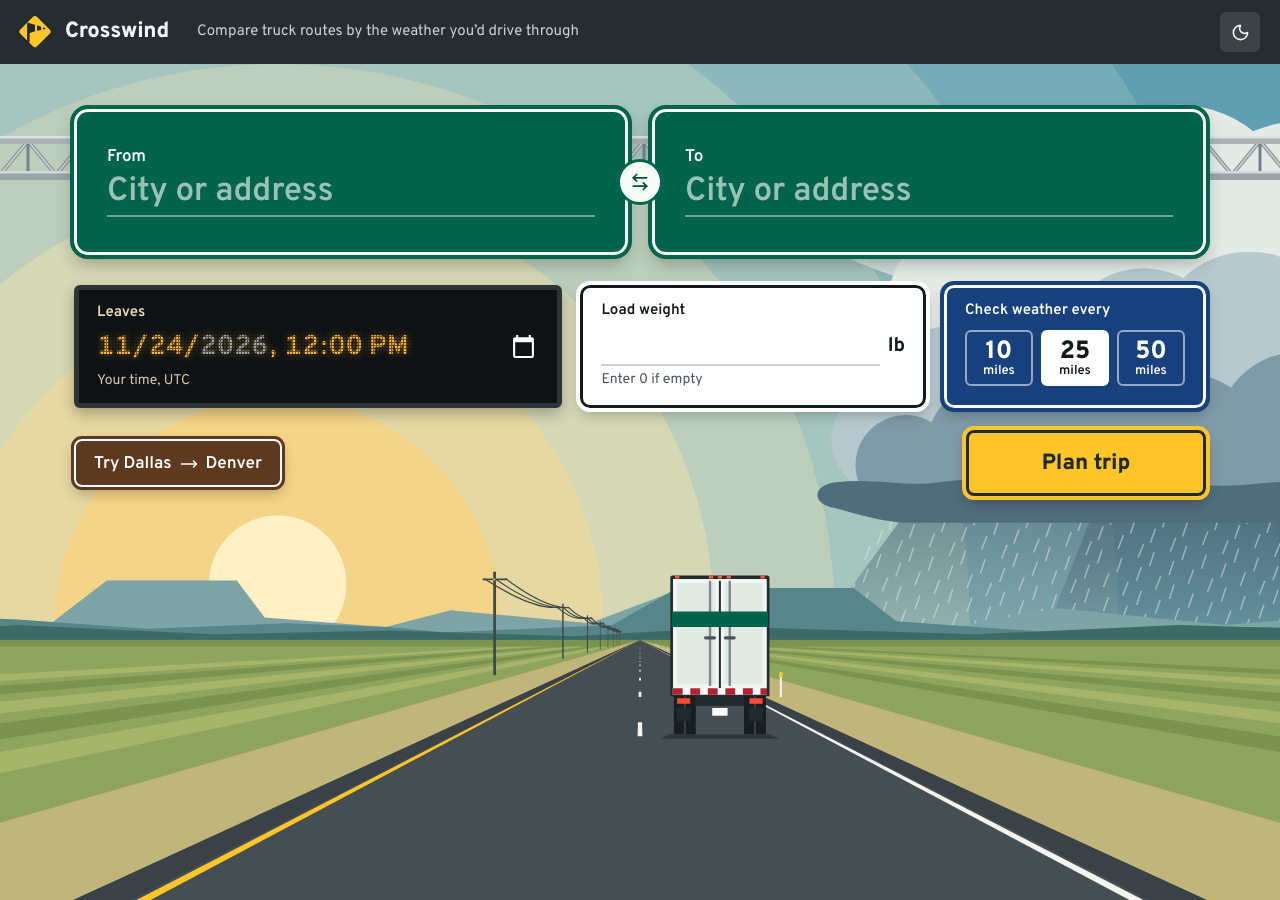
Test: planning a trip › asks which place is meant rather than guessing
The width and height of the screenshot is (1280, 900).
Type "paris" into the dropdown labelled "From".
click(351, 193); type("paris")  # box [107,169,595,217]
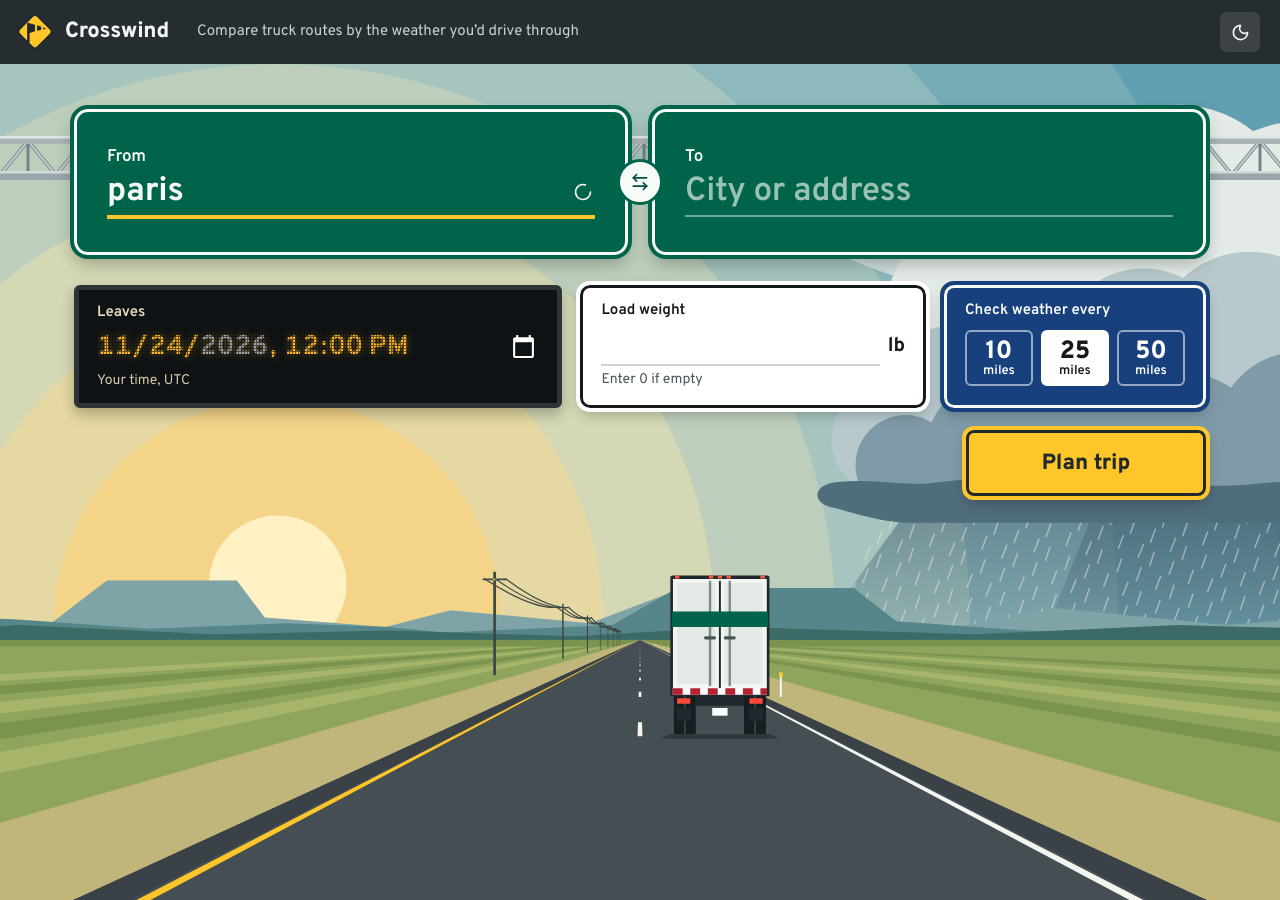
Type "paris, tx" into the dropdown labelled "To".
click(929, 193); type("paris, tx")  # box [685,169,1173,217]
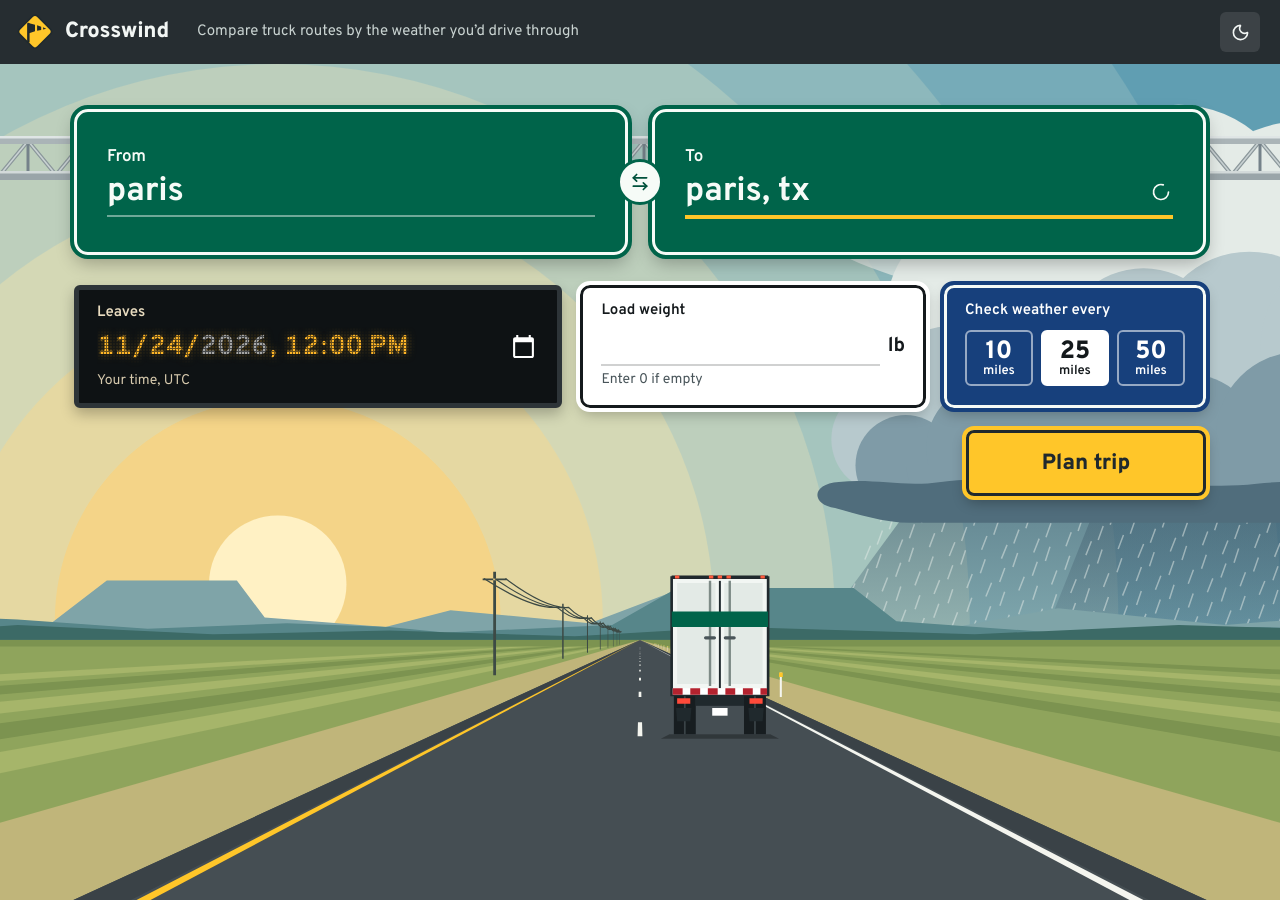
Type "0" into the field named "Load weight in pounds".
click(740, 344); type("0")  # box [601,322,880,366]
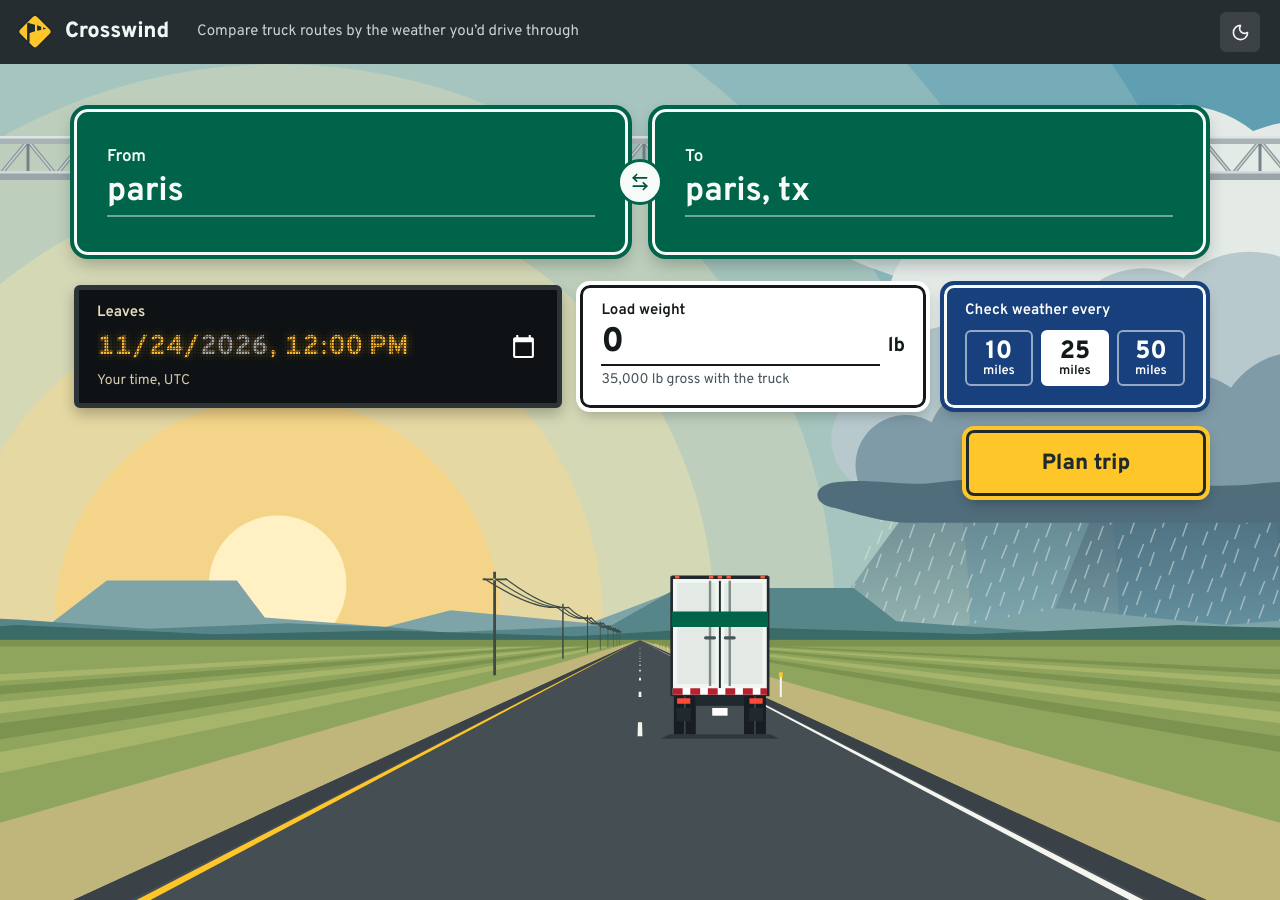
Click the button "Plan trip".
click(1086, 463)  # box [966,430,1206,496]
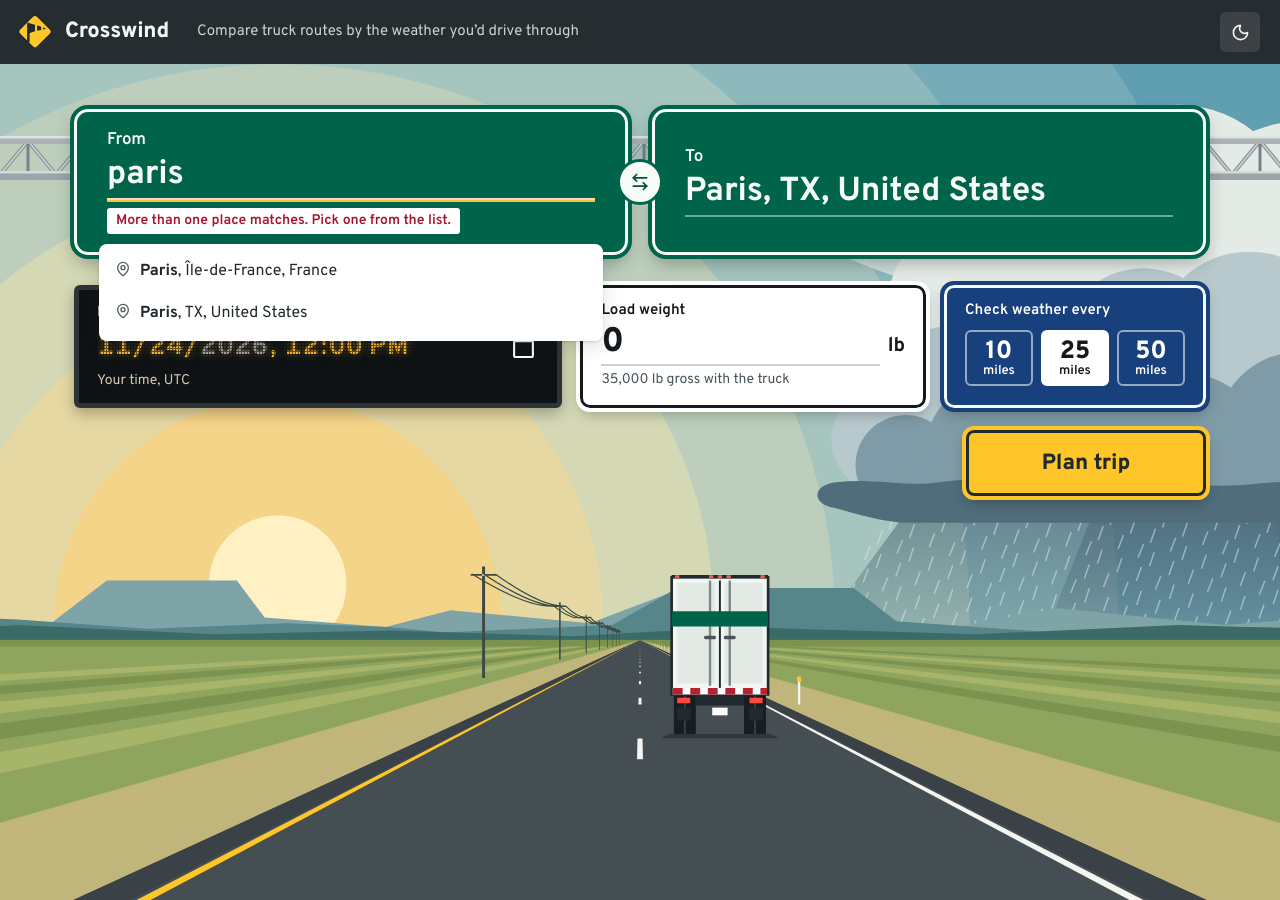
Check: the text "More than one place matches. Pick one from the list." is shown, box [107,208,460,234]
Check: the option "Paris, Île-de-France, France" is shown, box [115,261,337,281]
